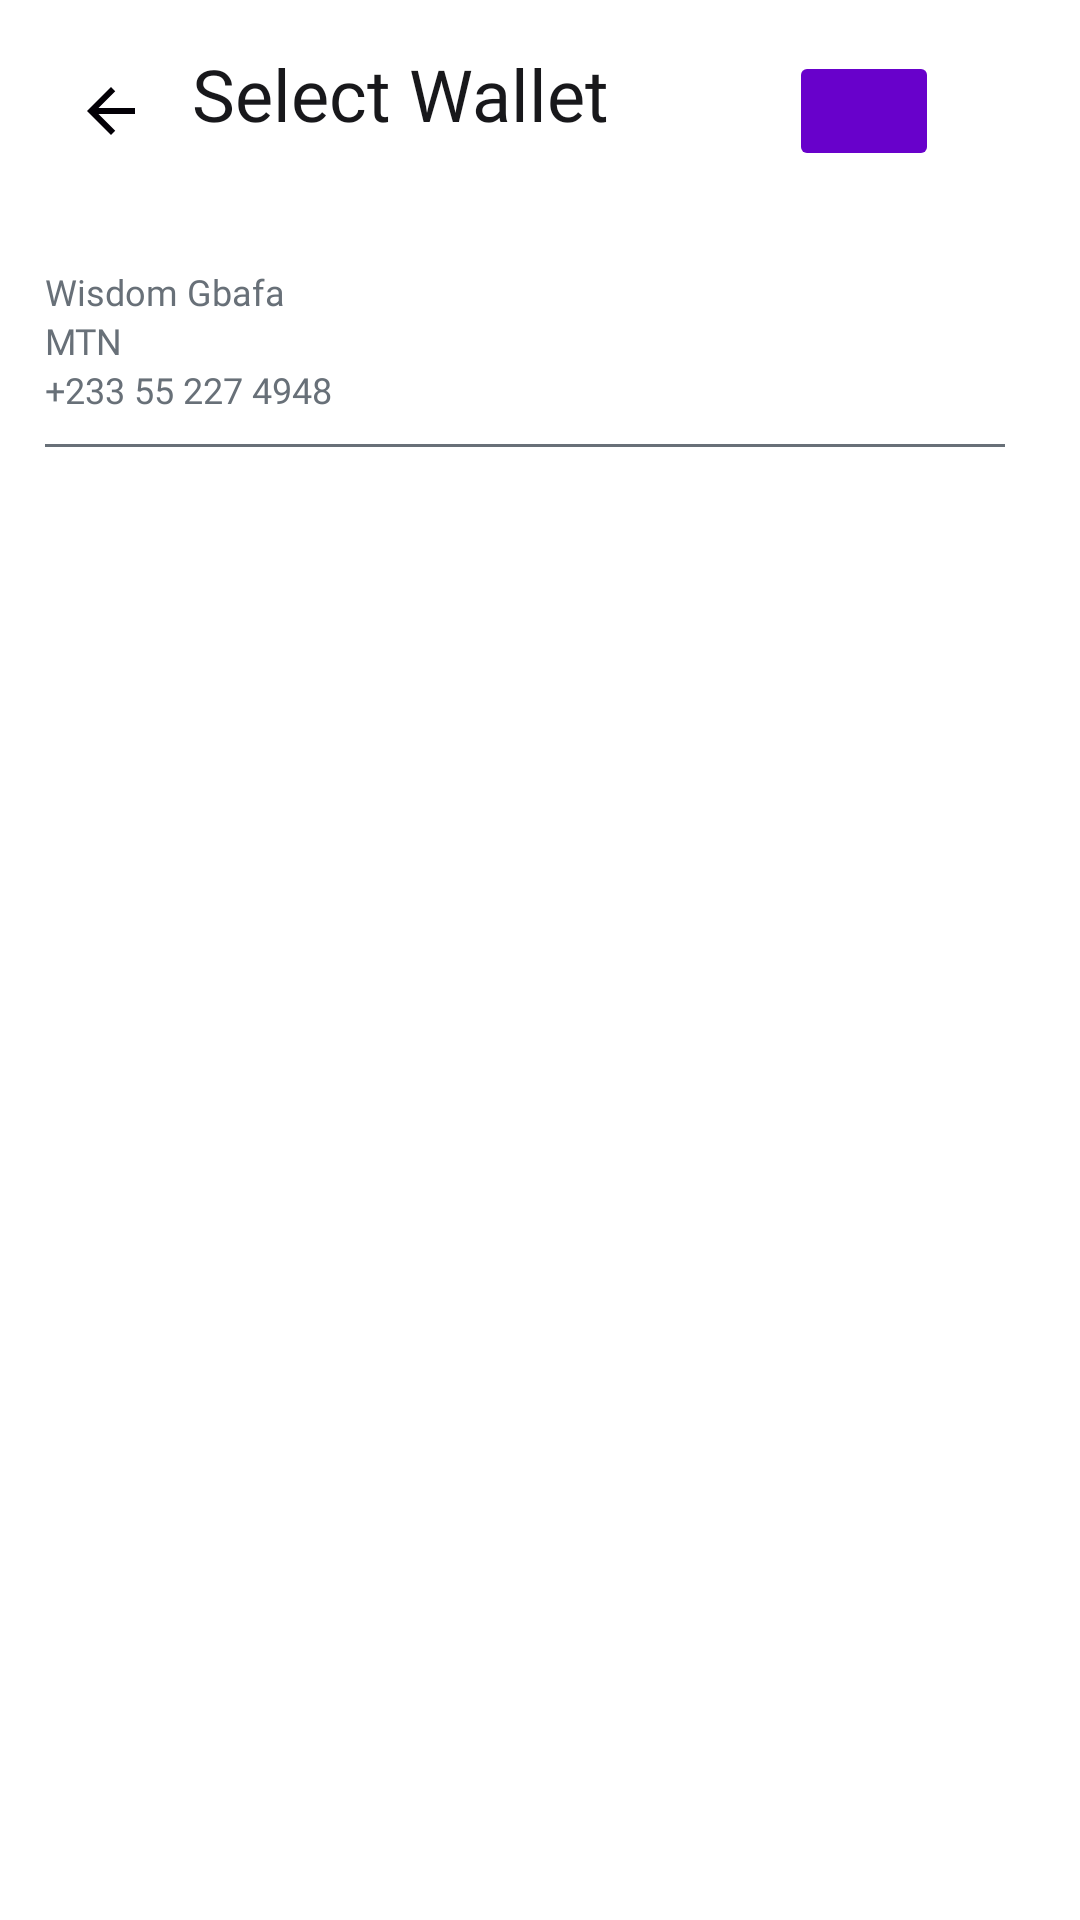

Screen size 1080*1920. Icon name, then its box in pixels as (x1, y1, x2, y2):
arrow back: (87, 87, 135, 135)
